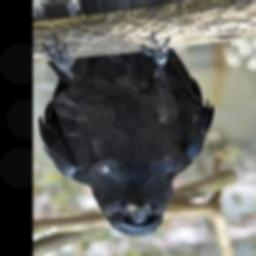Crow: (38, 32, 214, 237)
